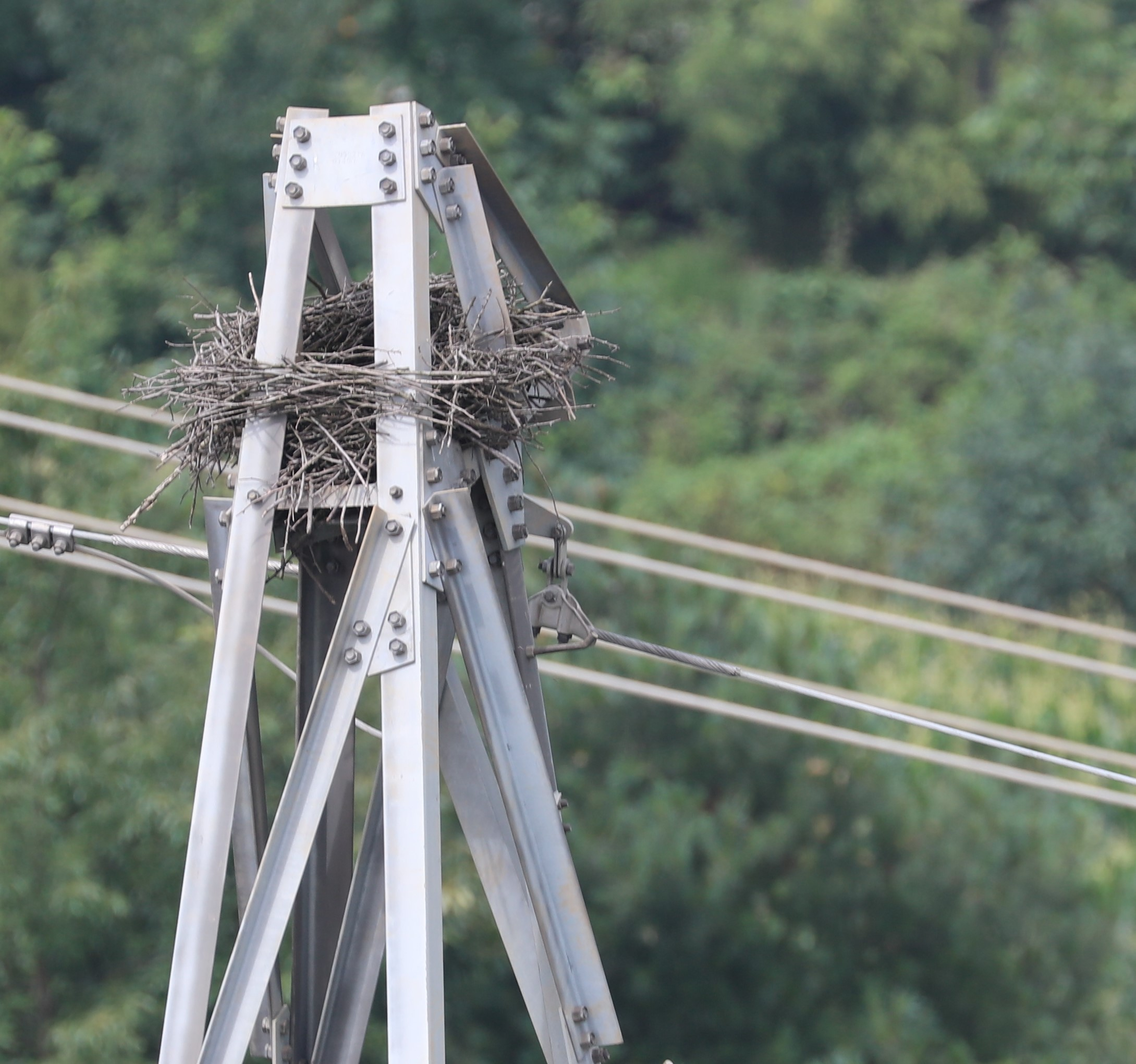nest: (145, 268, 605, 466)
